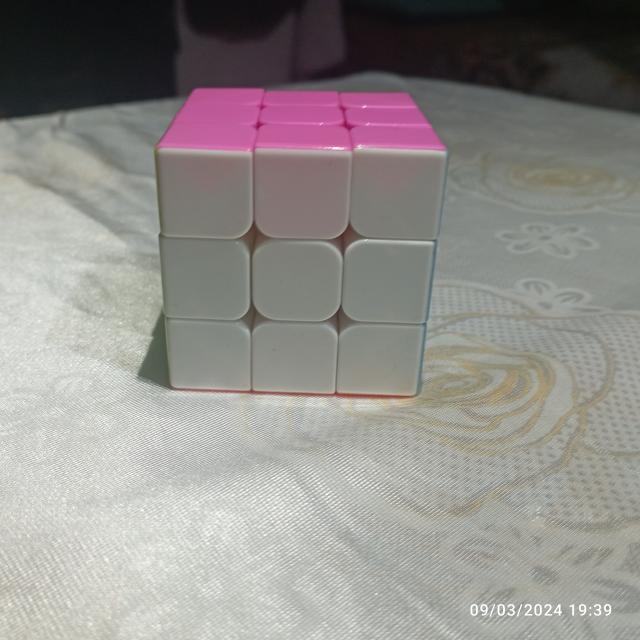Rub: (148, 63, 454, 410)
